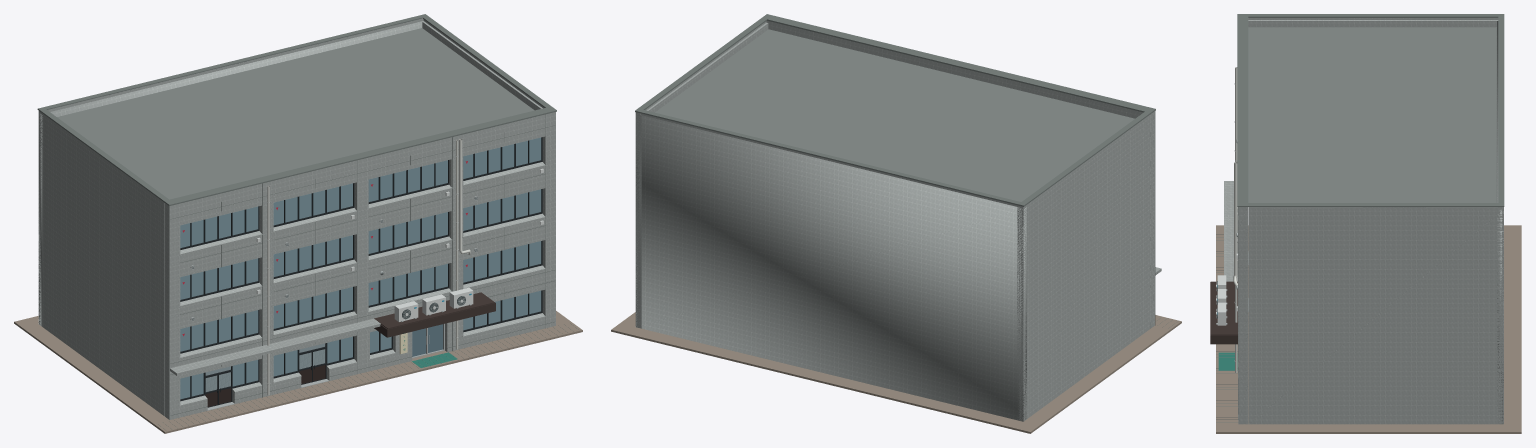
The model's file is denshito.glb.
3 views of the same model, side by side, from view 1: azimuth 30°, elevation 25°; view 2: azimuth 150°, elevation 25°; view 3: azimuth 270°, elevation 25° (orthographic).
Visible parts, largest first — view 1: 屋上スラブ, 側壁_左_推定, F4_窓上壁, 建物周囲歩道, F3_窓上壁, F2_窓上壁, 背面壁_推定, F3_腰壁, F4_腰壁, 前面笠木, F2_腰壁, 1階2階境界_タイル庇 (+14 smaller); view 2: 背面壁_推定, 屋上スラブ, 側壁_左_推定, 建物周囲歩道, F4_窓上壁, 前面笠木, 側壁_右_推定, 屋上背面笠木, 屋上左笠木, 屋上右笠木, 屋上背面立上り; view 3: 側壁_右_推定, 屋上スラブ, 建物周囲歩道, 前面笠木, 側壁_左_推定, 屋上背面笠木, 屋上右笠木, 屋上左笠木, 玄関庇_天板, 1階2階境界_タイル庇, 背面壁_推定, 屋上立上り.001 (+8 smaller).
Boxes of the visible parts, x1=… form: 屋上スラブ: x1=57, y1=28, x2=534, y2=199; 側壁_左_推定: x1=38, y1=113, x2=164, y2=416; F4_窓上壁: x1=165, y1=112, x2=555, y2=227; 建物周囲歩道: x1=14, y1=311, x2=582, y2=433; F3_窓上壁: x1=165, y1=171, x2=555, y2=279; F2_窓上壁: x1=165, y1=223, x2=555, y2=331; 背面壁_推定: x1=38, y1=21, x2=422, y2=326; F3_腰壁: x1=165, y1=216, x2=555, y2=317; F4_腰壁: x1=165, y1=164, x2=555, y2=265; 前面笠木: x1=170, y1=108, x2=551, y2=204; F2_腰壁: x1=165, y1=267, x2=555, y2=368; 1階2階境界_タイル庇: x1=170, y1=318, x2=380, y2=375; 背面壁_推定: x1=635, y1=114, x2=1026, y2=421; 屋上スラブ: x1=655, y1=29, x2=1134, y2=201; 側壁_左_推定: x1=1017, y1=116, x2=1149, y2=421; 建物周囲歩道: x1=611, y1=312, x2=1181, y2=433; F4_窓上壁: x1=766, y1=20, x2=1154, y2=135; 前面笠木: x1=767, y1=15, x2=1150, y2=112; 側壁_右_推定: x1=635, y1=22, x2=768, y2=328; 屋上背面笠木: x1=640, y1=110, x2=1020, y2=205; 屋上左笠木: x1=1018, y1=107, x2=1155, y2=206; 屋上右笠木: x1=635, y1=14, x2=771, y2=112; 屋上背面立上り: x1=640, y1=113, x2=1019, y2=207; 側壁_右_推定: x1=1248, y1=209, x2=1503, y2=424; 屋上スラブ: x1=1248, y1=27, x2=1496, y2=202; 建物周囲歩道: x1=1216, y1=225, x2=1521, y2=433; 前面笠木: x1=1237, y1=16, x2=1248, y2=202; 側壁_左_推定: x1=1248, y1=20, x2=1498, y2=202; 屋上背面笠木: x1=1498, y1=16, x2=1504, y2=202; 屋上右笠木: x1=1237, y1=203, x2=1504, y2=206; 屋上左笠木: x1=1237, y1=14, x2=1504, y2=17; 玄関庇_天板: x1=1210, y1=281, x2=1237, y2=335; 1階2階境界_タイル庇: x1=1224, y1=181, x2=1237, y2=281; 背面壁_推定: x1=1497, y1=21, x2=1503, y2=423; 屋上立上り.001: x1=1248, y1=207, x2=1503, y2=208.
Size of the model in its own units: 30.4 by 15.13 by 19.34.
20 materials, 1 textured.
